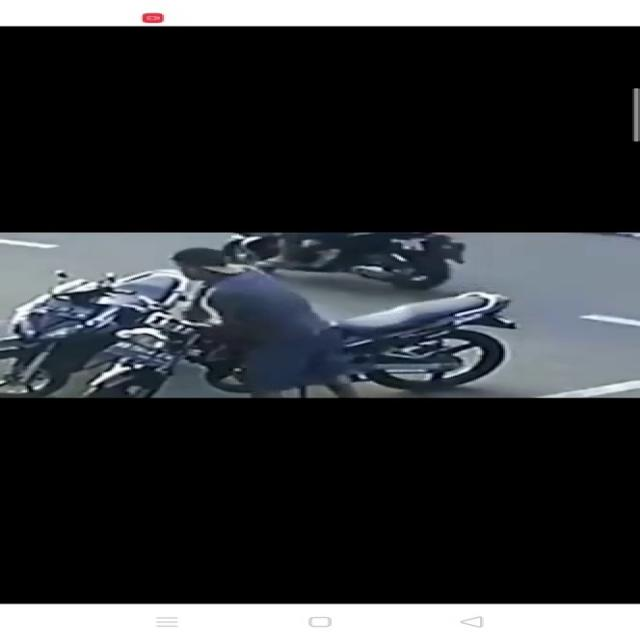pencurian: (83, 246, 364, 396)
